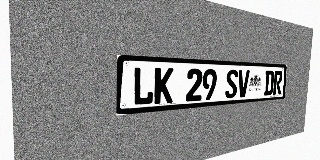2: (186, 68, 203, 102)
9: (202, 69, 217, 100)
D: (264, 70, 274, 95)
K: (154, 67, 174, 104)
L: (132, 67, 154, 106)
R: (273, 71, 283, 95)
S: (225, 69, 238, 99)
V: (237, 70, 250, 98)
